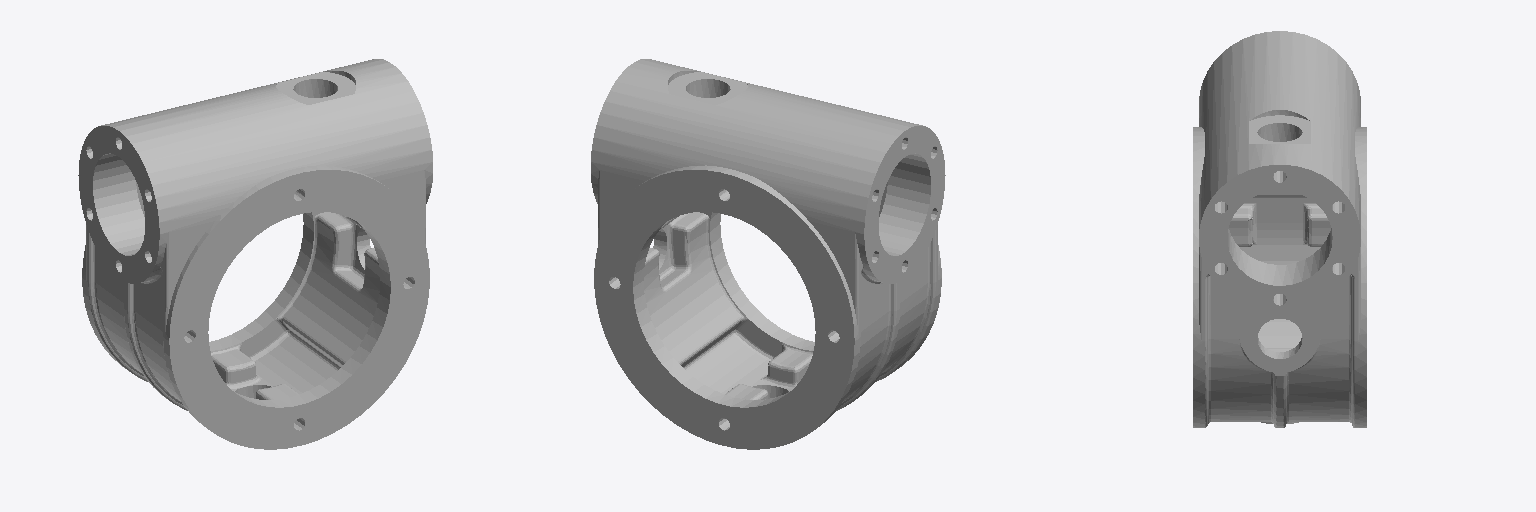
File: RI40_CORPS.obj
The picture shows the model from 3 angles: view 1: azimuth 30°, elevation 25°; view 2: azimuth 150°, elevation 25°; view 3: azimuth 270°, elevation 25°; orthographic projection.
Visible parts, largest first — view 1: RI40 CORPS; view 2: RI40 CORPS; view 3: RI40 CORPS.
Boxes of the visible parts, <box> form: RI40 CORPS: <box>78,59,432,449</box>; RI40 CORPS: <box>591,59,945,449</box>; RI40 CORPS: <box>1193,31,1366,427</box>.
Size of the model in its own units: 105 by 116 by 58.